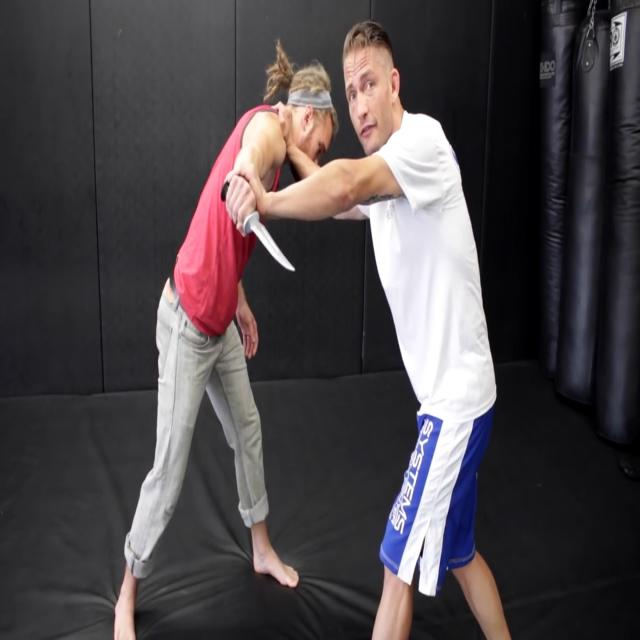knife: (220, 182, 299, 274)
